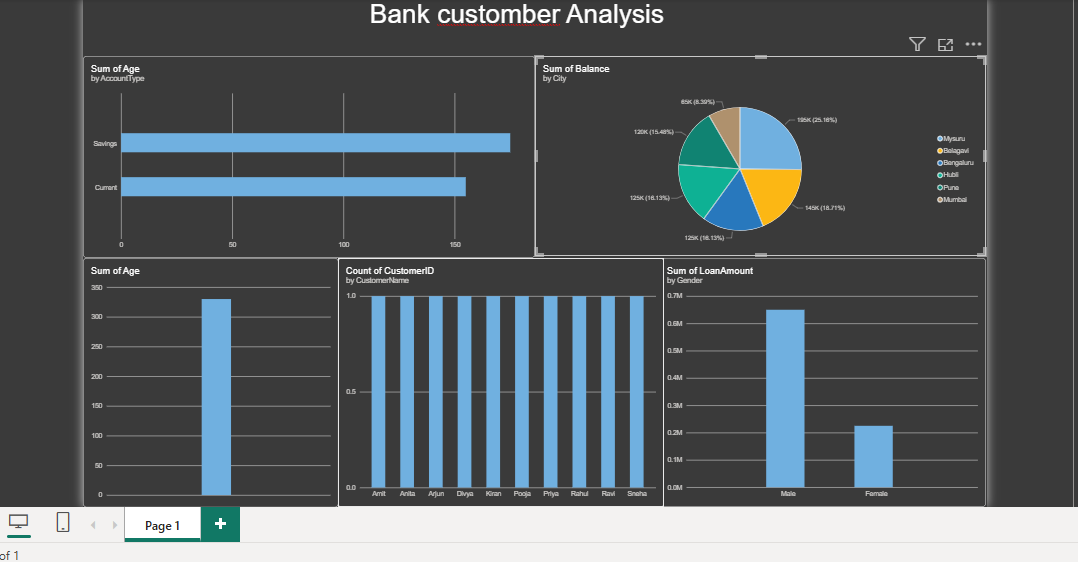

The dashboard page shown, as its layout file describes it:
{"tool":"powerbi","page":{"name":"Page 1","canvas":[1920,1080],"ordinal":0},"visuals":[{"type":"clusteredColumnChart","fields":{"Y":["Sum(bankdb bankcustomers.Age)"]},"box":[0,550.6,542.5,530],"z":2},{"type":"columnChart","fields":{"Category":["bankdb bankcustomers.Gender"],"Y":["Sum(bankdb bankcustomers.LoanAmount)"]},"box":[1224.6,550.6,695.2,529.4],"z":7},{"type":"barChart","fields":{"Category":["bankdb bankcustomers.AccountType"],"Y":["Sum(bankdb bankcustomers.Age)"]},"box":[0,121.2,960.9,429.4],"z":8},{"type":"pieChart","fields":{"Category":["bankdb bankcustomers.City"],"Y":["Sum(bankdb bankcustomers.Balance)"]},"box":[960.9,121.2,958.8,425.2],"z":9},{"type":"columnChart","fields":{"Category":["bankdb bankcustomers.CustomerName"],"Y":["CountNonNull(bankdb bankcustomers.CustomerID)"]},"box":[542.1,550.6,692.5,530],"z":10},{"type":"textbox","box":[272.1,0,1301.1,121.2],"z":11}]}

Visuals, with their boxes on the page's 1920x1080 design canvas (x1, y1, x2, y2). These are canvas units, not pixel positions in the 1078x562 screenshot, which may show the page scaled, cropped or inside an application window:
clusteredColumnChart - Sum(bankdb bankcustomers.Age): crop(0, 551, 542, 1081)
columnChart - bankdb bankcustomers.Gender x Sum(bankdb bankcustomers.LoanAmount): crop(1225, 551, 1920, 1080)
barChart - bankdb bankcustomers.AccountType x Sum(bankdb bankcustomers.Age): crop(0, 121, 961, 551)
pieChart - bankdb bankcustomers.City x Sum(bankdb bankcustomers.Balance): crop(961, 121, 1920, 546)
columnChart - bankdb bankcustomers.CustomerName x CountNonNull(bankdb bankcustomers.CustomerID): crop(542, 551, 1235, 1081)
textbox: crop(272, 0, 1573, 121)
